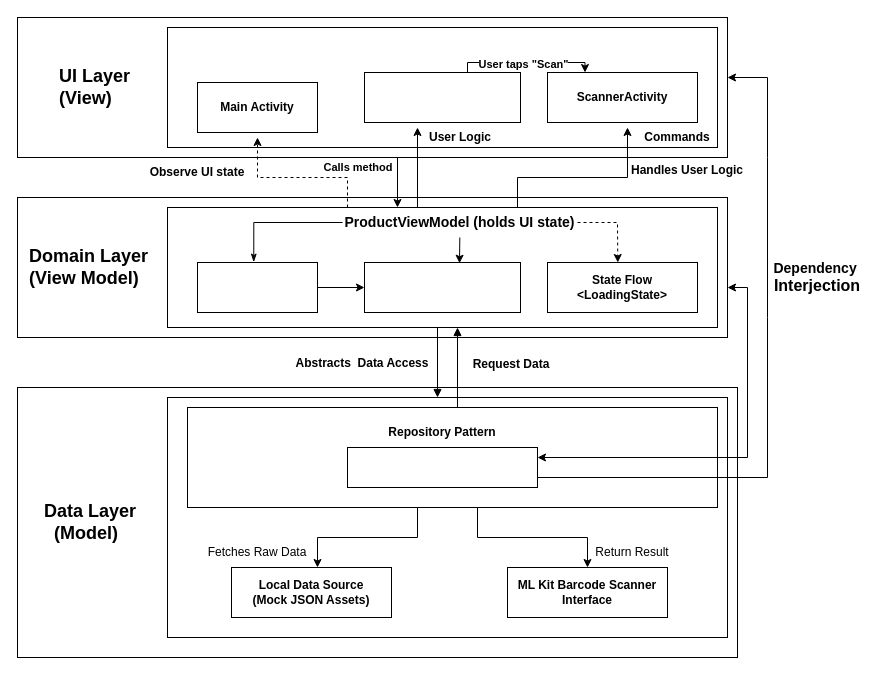
Image size: 878x675. Some labels were removed from this diagram. The centre of each missing label's shape, as x and y in pixels:
"EcoScore UseCase" goes at point (257, 287).
"ProductDetailFragment" goes at point (442, 97).
"ProductRepository" goes at point (442, 467).
"State Flow <ProductState>" goes at point (442, 287).
